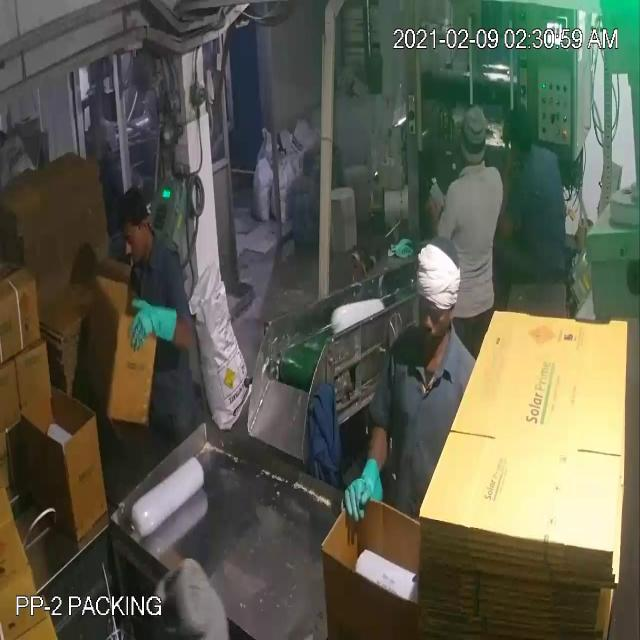gloves: (120, 287, 189, 365), (334, 443, 390, 537)
